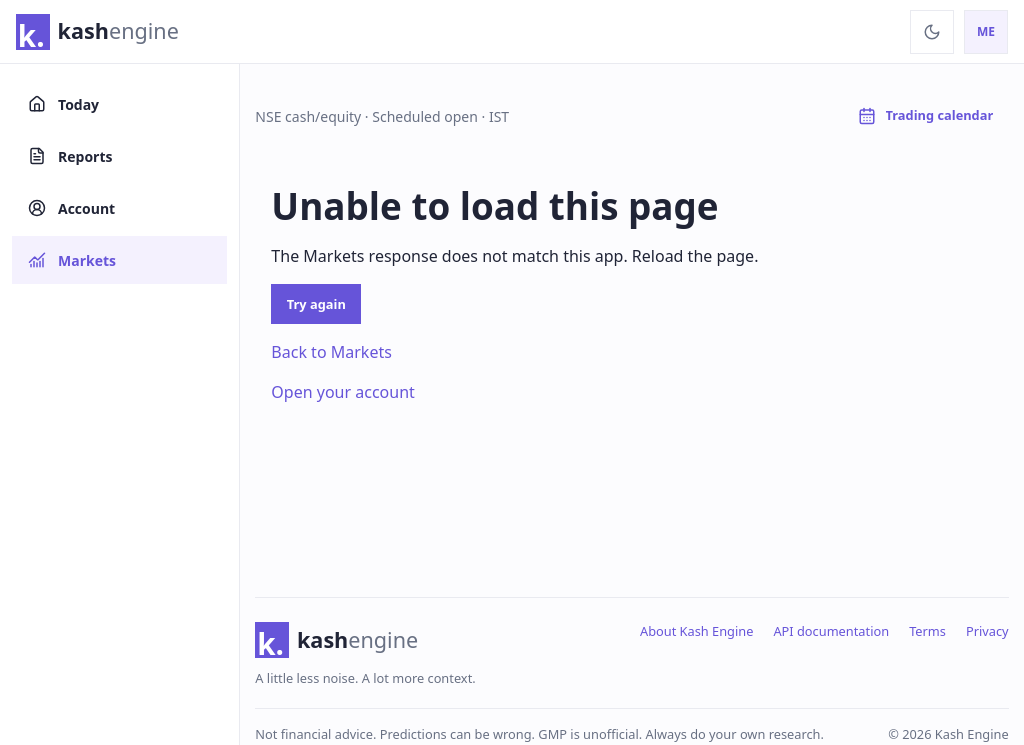
surfaces malformed contracts and retries a failed request
This screenshot has width=1024, height=745.
Expected: the message shows "does not match this app", [271,245,758,267]
Step 1. Click the button "Try again" → click(316, 304), box [271,284,361,324]
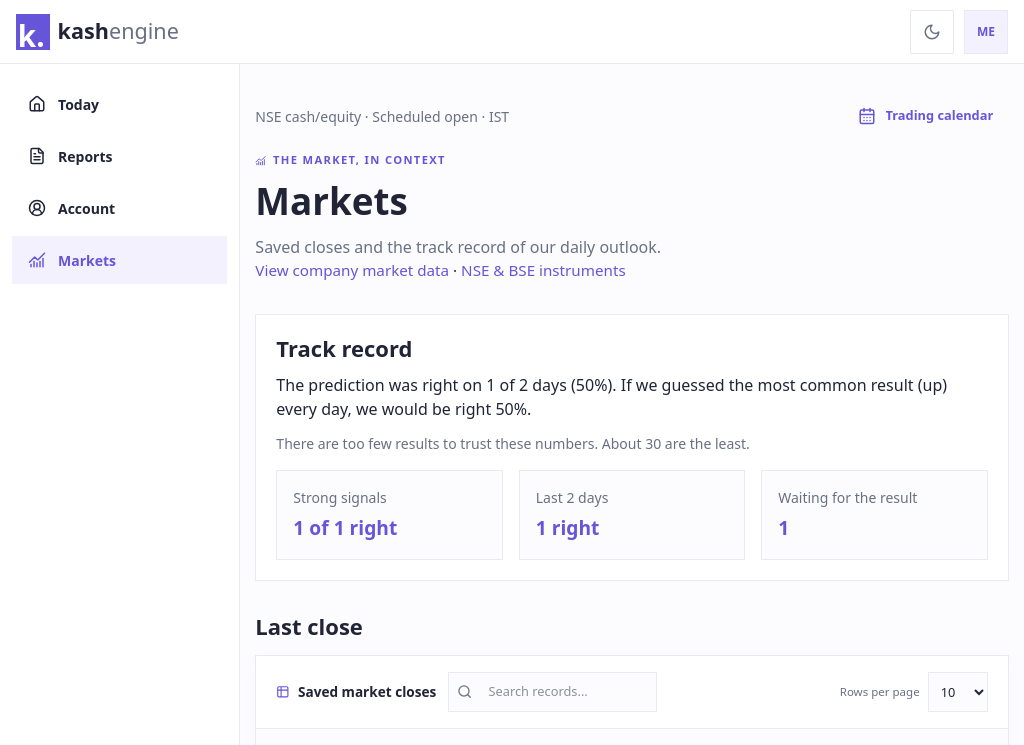
Result: the heading "Track record" is shown at [276,333,412,363]
